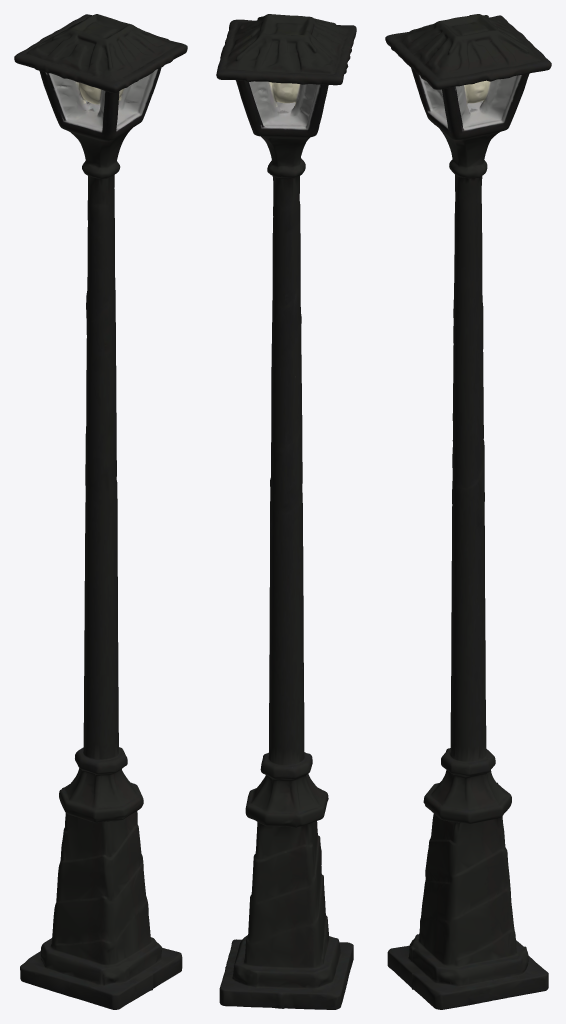
Rendered from lamp_post.glb.
The picture shows the model from 3 angles, left to right: view 1: azimuth 30°, elevation 25°; view 2: azimuth 150°, elevation 25°; view 3: azimuth 270°, elevation 25°; orthographic projection.
Visible parts, largest first — view 1: geometry_0; view 2: geometry_0; view 3: geometry_0.
Part boxes in pixels (x1=…): geometry_0: x1=14, y1=14, x2=187, y2=1009; geometry_0: x1=216, y1=14, x2=356, y2=1009; geometry_0: x1=385, y1=14, x2=551, y2=1009.
Bounding box in the file's own units: 0.7802 × 5 × 0.7922.
1 material, 1 textured.
